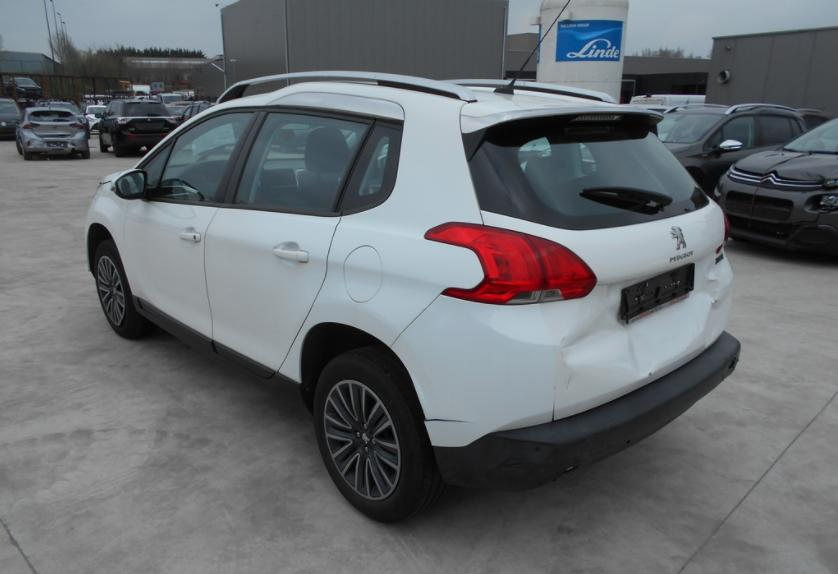Back-bumper: (391, 295, 741, 482)
Back-door: (205, 108, 376, 372)
Back-wheel: (314, 346, 432, 522)
Back-window: (235, 113, 366, 212), (337, 123, 401, 213)
Back-windshield: (461, 113, 709, 230)
Fender: (85, 183, 128, 271)
Front-door: (124, 107, 266, 340)
Front-wheel: (94, 241, 136, 336)
Front-window: (157, 114, 251, 201), (142, 144, 169, 197)
Hood: (99, 172, 121, 185)
Mirror: (111, 170, 148, 200)
Quarter-panel: (278, 195, 484, 384)
Rocker-panel: (133, 297, 306, 407)
Roof: (217, 71, 658, 116)
Tail-light: (424, 222, 596, 305), (722, 215, 731, 246)
Trunk: (461, 107, 734, 419)
